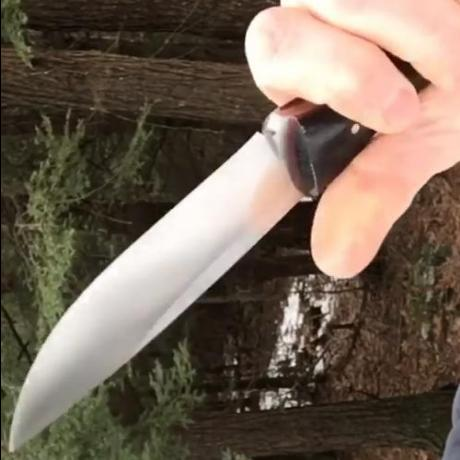1: (236, 0, 460, 282)
weapon: (7, 92, 389, 454)
